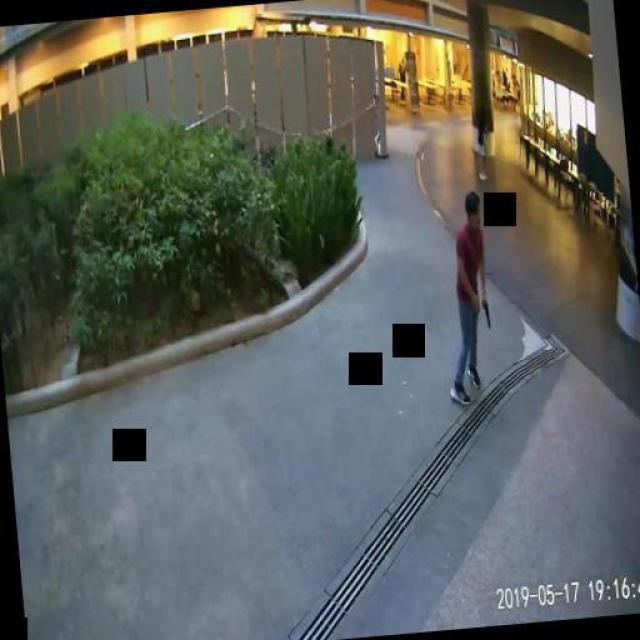gun: (480, 296, 490, 329)
